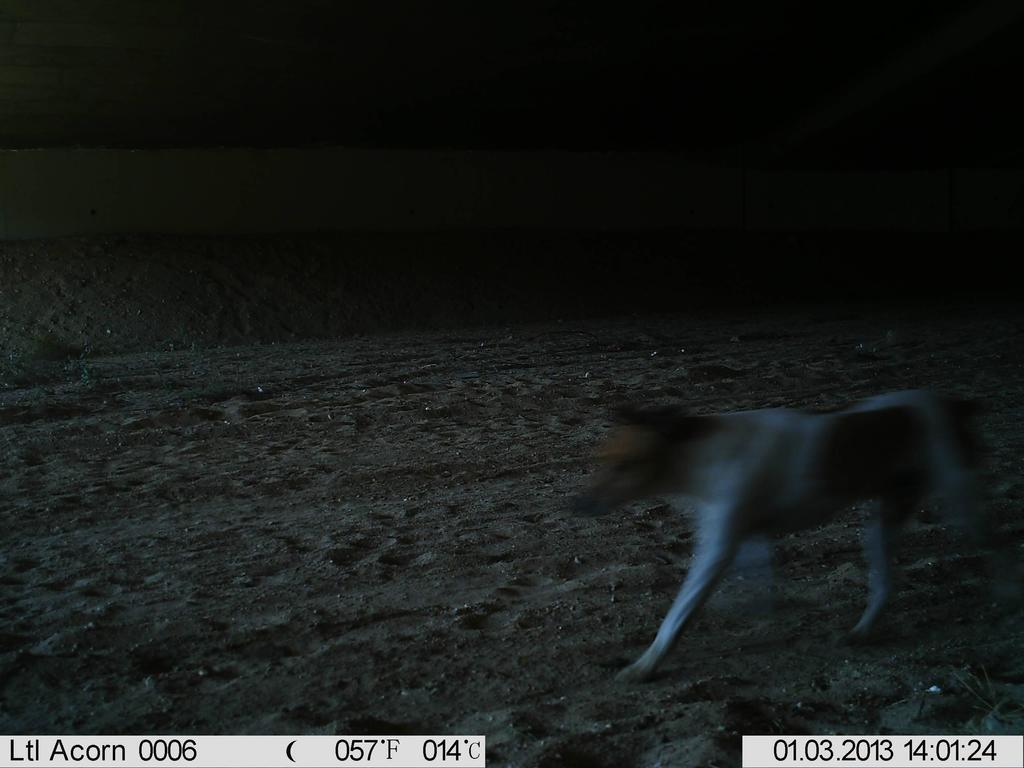dog: (569, 373, 1012, 680)
